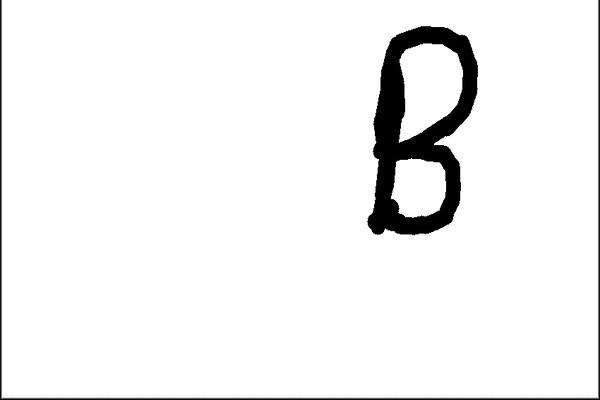B: (360, 18, 482, 242)
